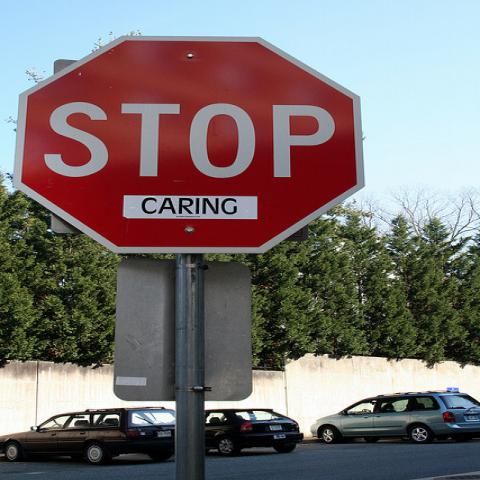car: (1, 408, 176, 464), (309, 390, 479, 444), (204, 408, 303, 454)
